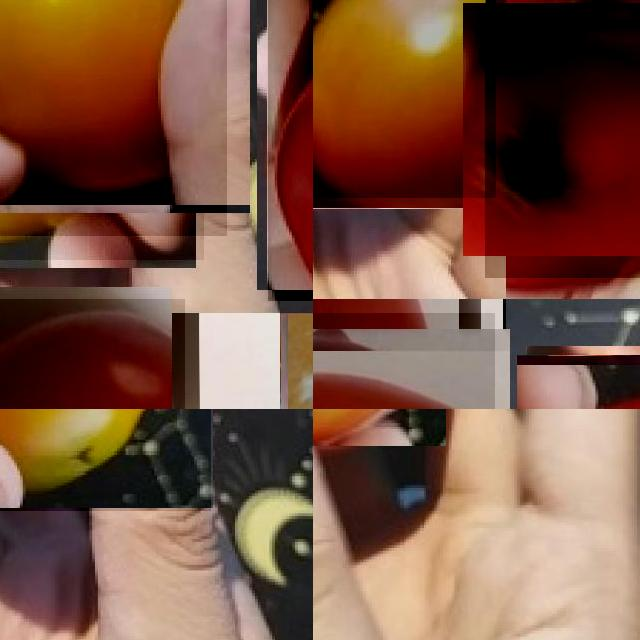Fresh Tomato: (484, 0, 640, 277), (0, 299, 185, 409), (313, 313, 495, 409)
Rotten Tomato: (0, 0, 227, 236), (313, 0, 496, 198), (0, 409, 210, 510)
